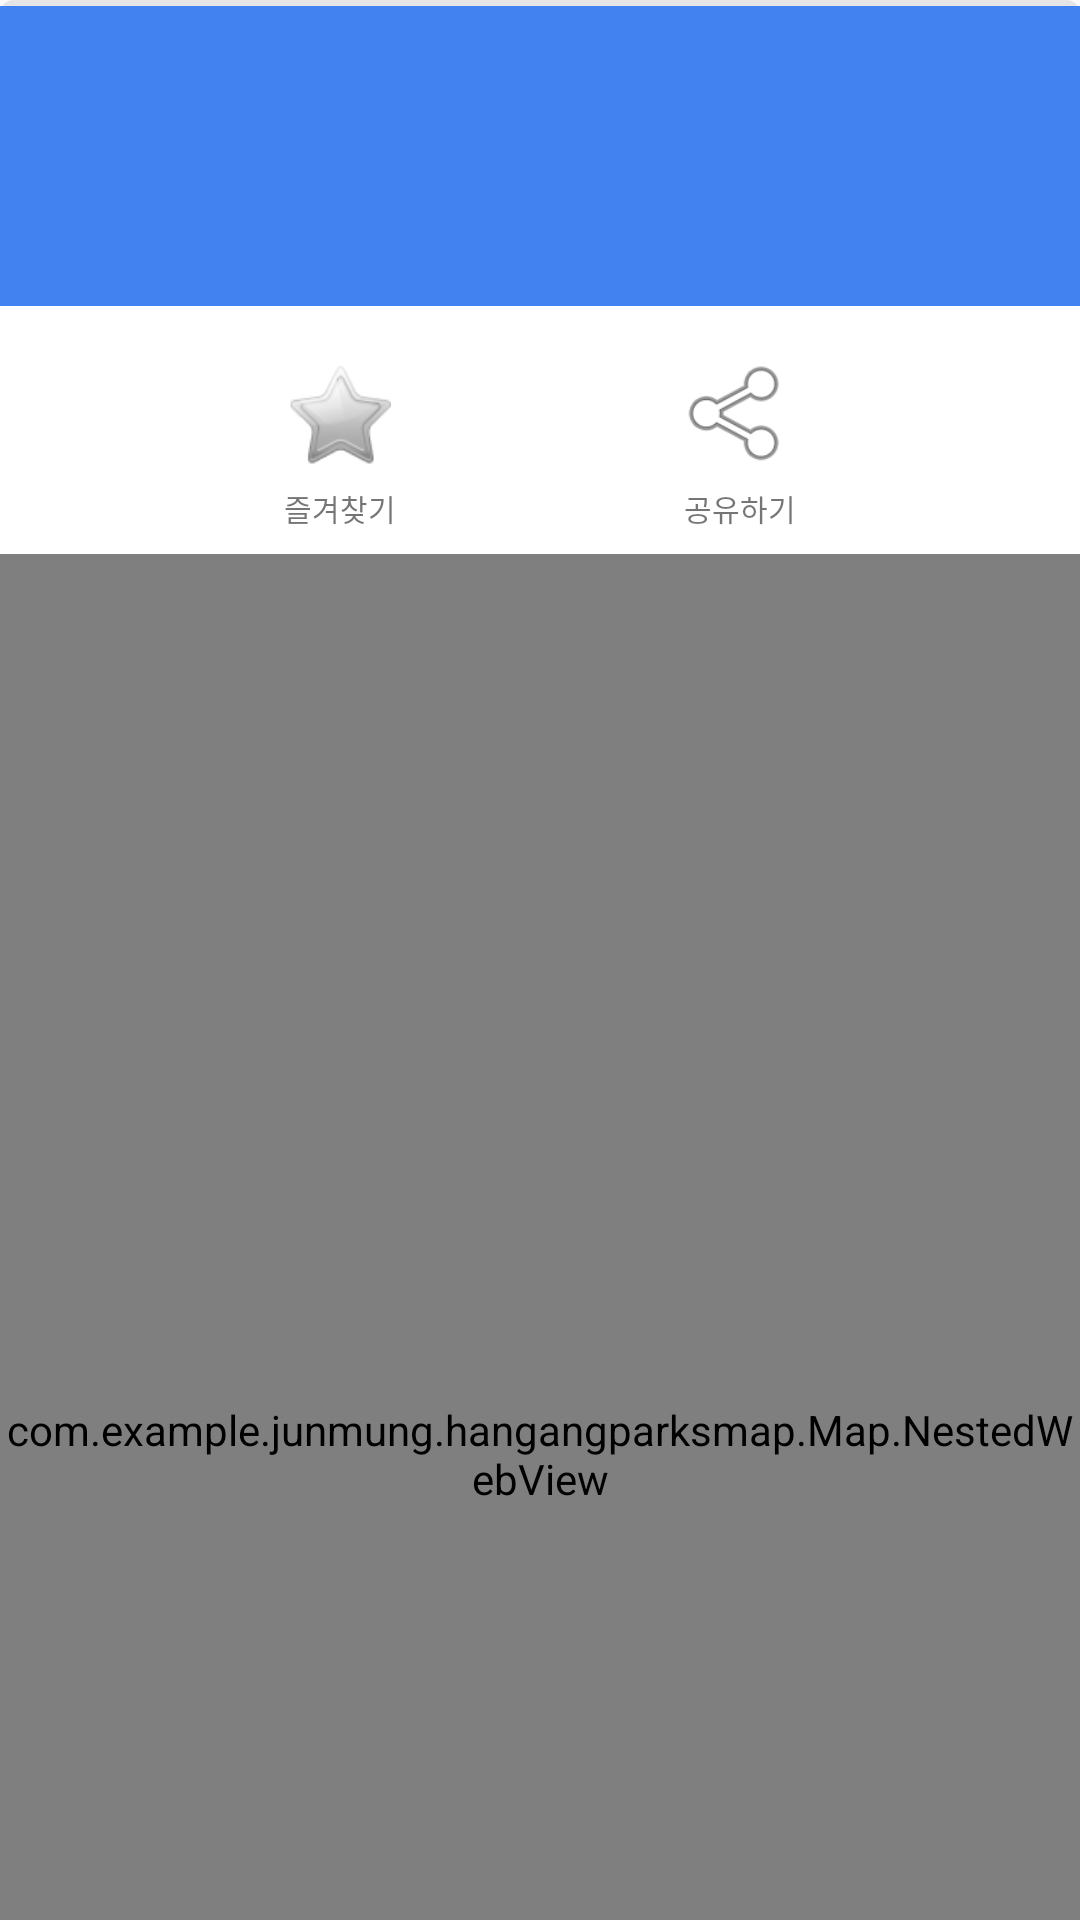

Icons on this 1080*1920 Android screen, each with its box as {"left": x1, "top": y1, "right": x2, "bottom": y2}:
star off: {"left": 291, "top": 373, "right": 391, "bottom": 464}
